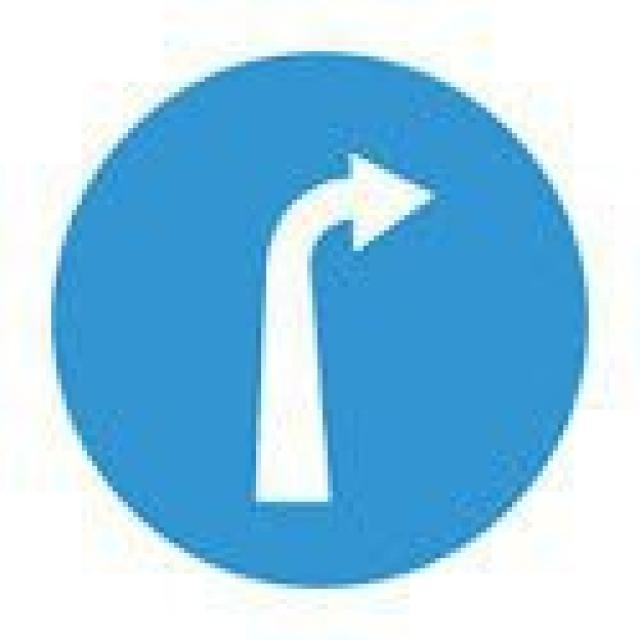compulsary turn right ahead: (56, 50, 583, 584)
